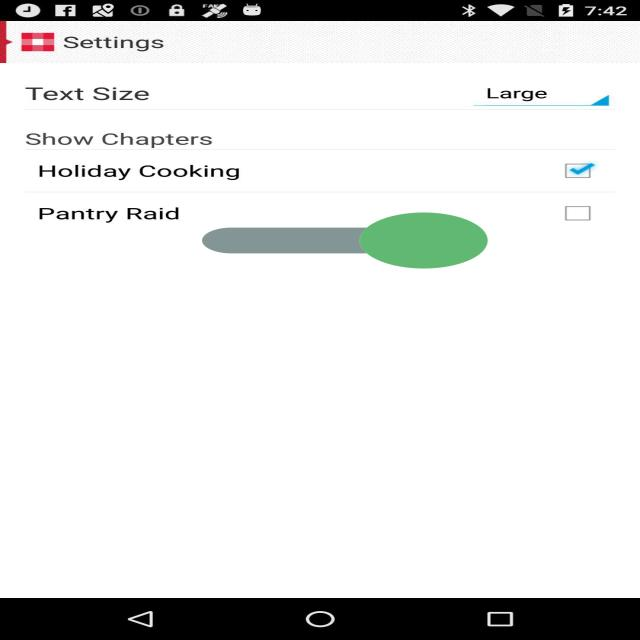social proof: (202, 178, 488, 303)
